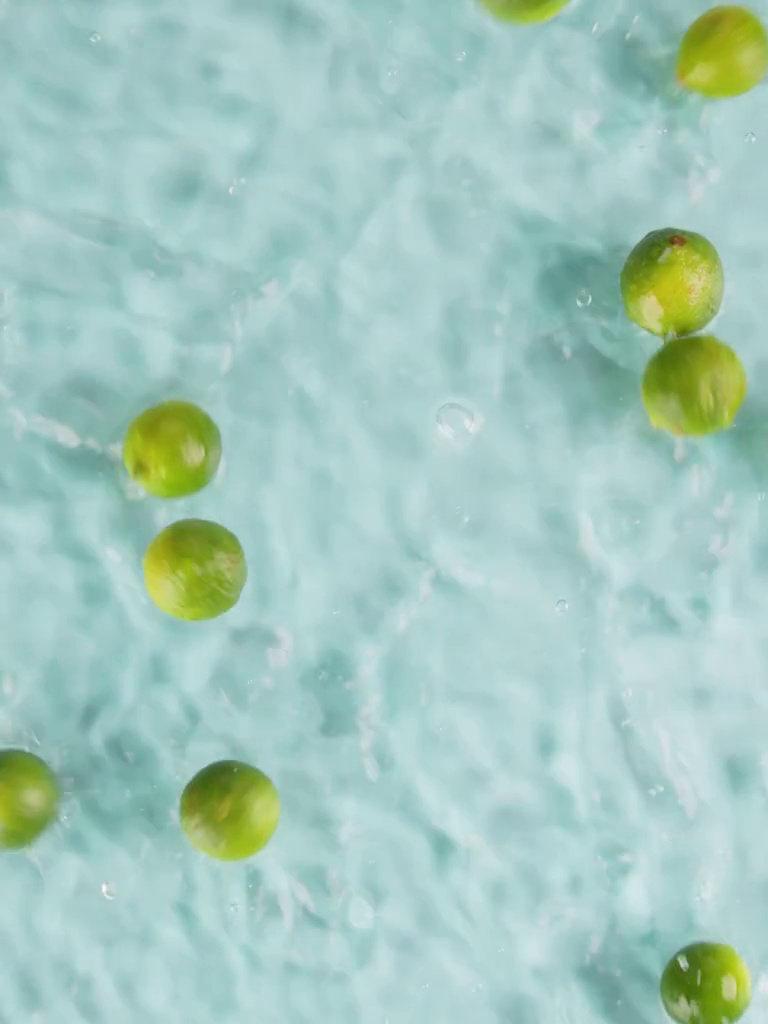Orange: (642, 334, 751, 440), (140, 520, 251, 620)
